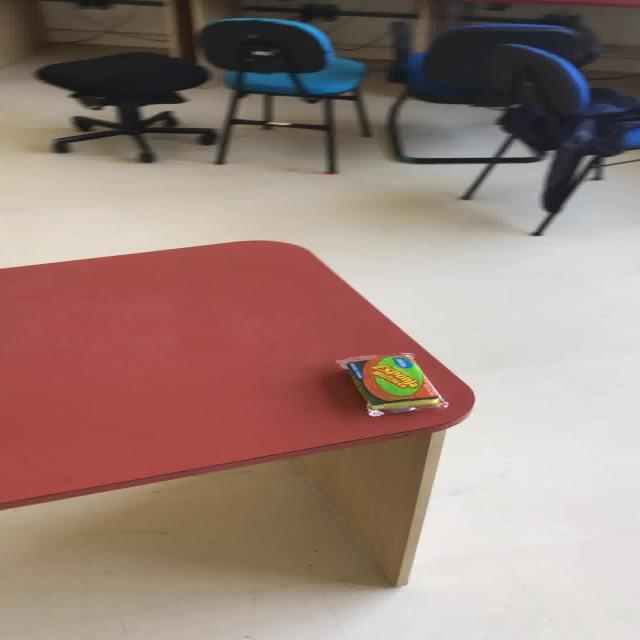sponge: (335, 351, 446, 416)
